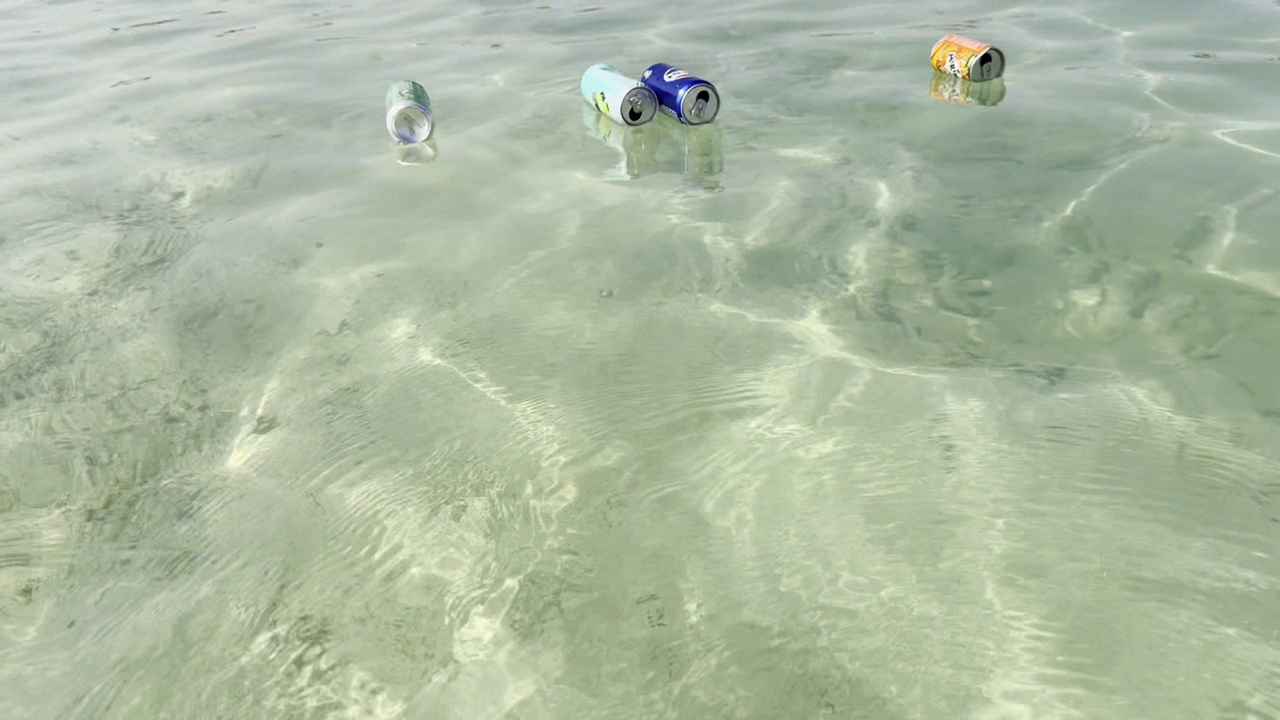debris: (639, 57, 723, 134), (371, 76, 450, 154), (918, 30, 1018, 91), (575, 55, 658, 128)
